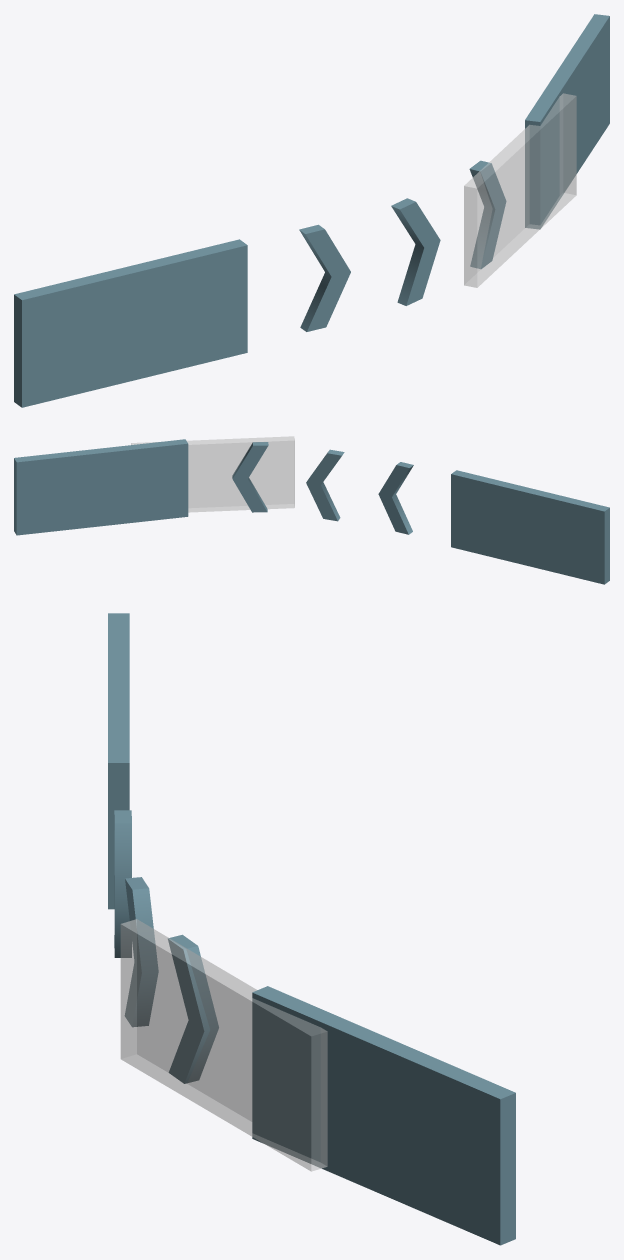
Rendered from 相机动画.fbx.
3 views of the same model, one above another, from view 1: azimuth 30°, elevation 25°; view 2: azimuth 150°, elevation 25°; view 3: azimuth 270°, elevation 25° (orthographic). The views are drawn at different scales.
Visible parts, largest first — view 1: pCube6, pCube8, pCube7, pCube4, pCube3, pCube5; view 2: pCube7, pCube6, pCube8, pCube4, pCube5, pCube3; view 3: pCube7, pCube8, pCube6, pCube5, pCube3, pCube4.
Boxes of the visible parts, x1,y1,x2,y2 form: pCube6: [14, 239, 247, 407]; pCube8: [464, 93, 576, 287]; pCube7: [525, 14, 609, 229]; pCube4: [299, 224, 350, 331]; pCube3: [391, 198, 440, 305]; pCube5: [469, 160, 506, 268]; pCube7: [14, 439, 188, 535]; pCube6: [451, 470, 609, 584]; pCube8: [131, 436, 294, 512]; pCube4: [378, 462, 413, 534]; pCube5: [232, 442, 268, 512]; pCube3: [306, 449, 344, 521]; pCube7: [252, 986, 515, 1245]; pCube8: [120, 919, 327, 1171]; pCube6: [108, 613, 129, 909]; pCube5: [168, 934, 218, 1083]; pCube3: [125, 877, 158, 1026]; pCube4: [114, 810, 131, 957].
Bounding box in the file's own units: 3.25 × 0.4556 × 1.15.
